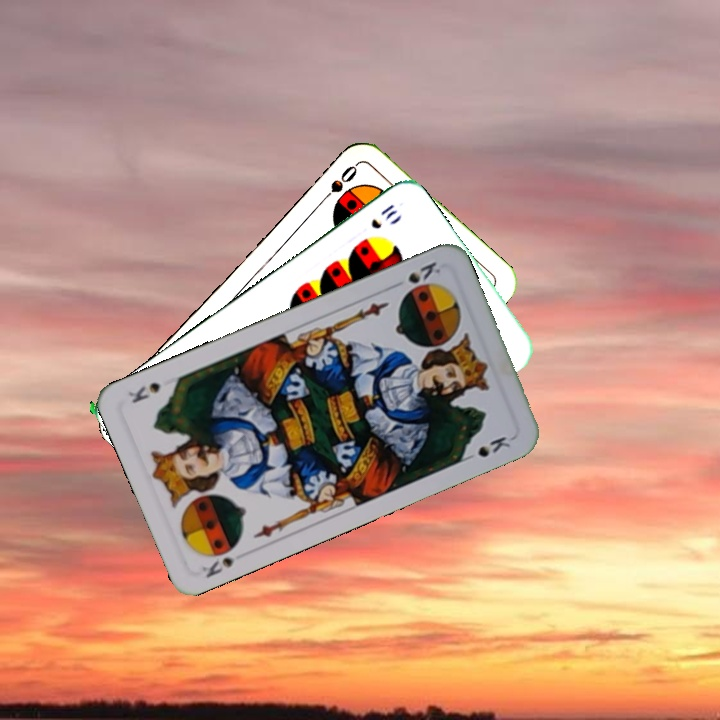S10: (367, 200, 400, 232)
SK: (401, 257, 444, 296), (198, 553, 237, 581)
SO: (315, 160, 360, 208)
